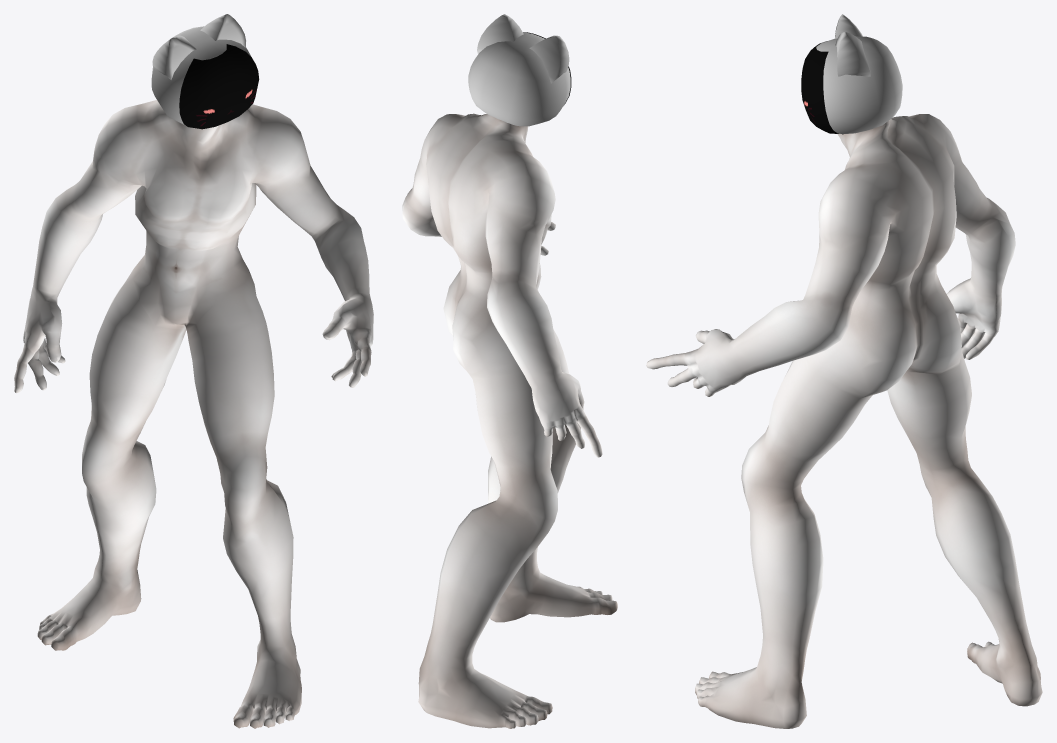
The picture shows the model from 3 angles, left to right: view 1: azimuth 30°, elevation 25°; view 2: azimuth 150°, elevation 25°; view 3: azimuth 270°, elevation 25°; orthographic projection. The views are drawn at different scales.
Visible parts, largest first — view 1: Muscle_Body, ______?001, Cat_Head; view 2: Muscle_Body, Cat_Head; view 3: Muscle_Body, Cat_Head, ______?001.
Boxes of the visible parts, box(x1,y1,x2,y2) form: Muscle_Body: box(14, 100, 373, 728); ______?001: box(179, 44, 259, 129); Cat_Head: box(151, 14, 250, 125); Muscle_Body: box(402, 113, 617, 728); Cat_Head: box(468, 14, 570, 126); Muscle_Body: box(646, 114, 1042, 728); Cat_Head: box(816, 14, 902, 133); ______?001: box(801, 41, 843, 134).
Size of the model in its own units: 12.19 by 28.18 by 14.88.
